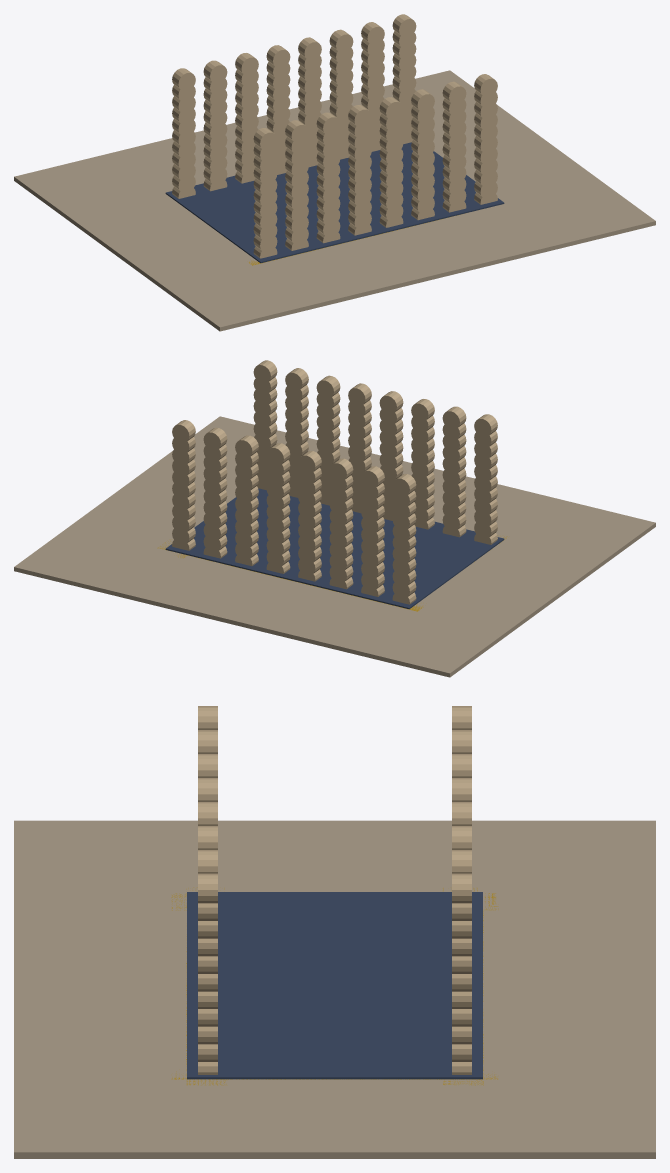
Rendered from stage_07_openings.glb.
3 renders of one model, top to bottom at view 1: azimuth 30°, elevation 25°; view 2: azimuth 150°, elevation 25°; view 3: azimuth 270°, elevation 25°, orthographic. The views are drawn at different scales.
Parts seen in each view (by area): view 1: world; view 2: world; view 3: world.
Part boxes in pixels (bbox=[...]): world: bbox=[14, 14, 655, 331]; world: bbox=[14, 360, 655, 677]; world: bbox=[14, 706, 655, 1158].
Size of the model in its own units: 11 by 3.82 by 9.
